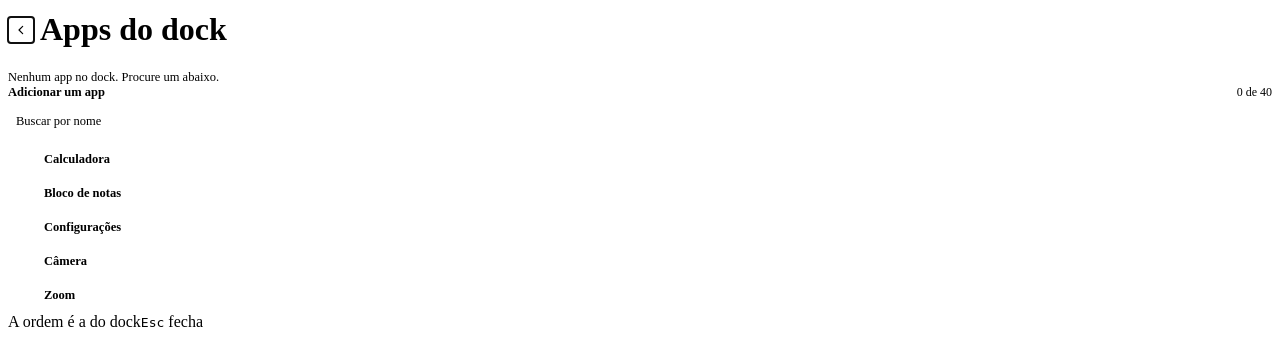
Scenario: AppsPanel › the catalog › says when nothing matches
This screenshot has width=1280, height=344.
Type "xyz" into the field named "Buscar app instalado" at [640, 121], box x1=8 y1=108 x2=1272 y2=135
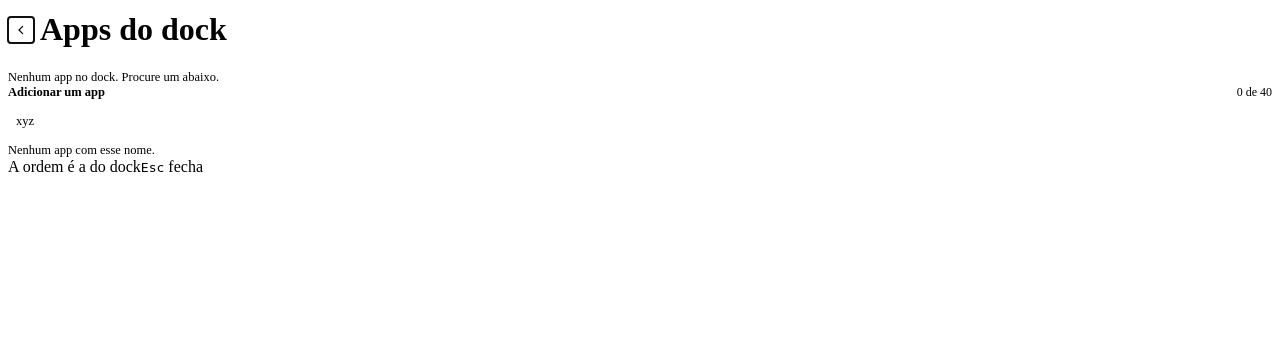
Expected: the text "Nenhum app com esse nome." is shown, x1=8 y1=143 x2=155 y2=157
